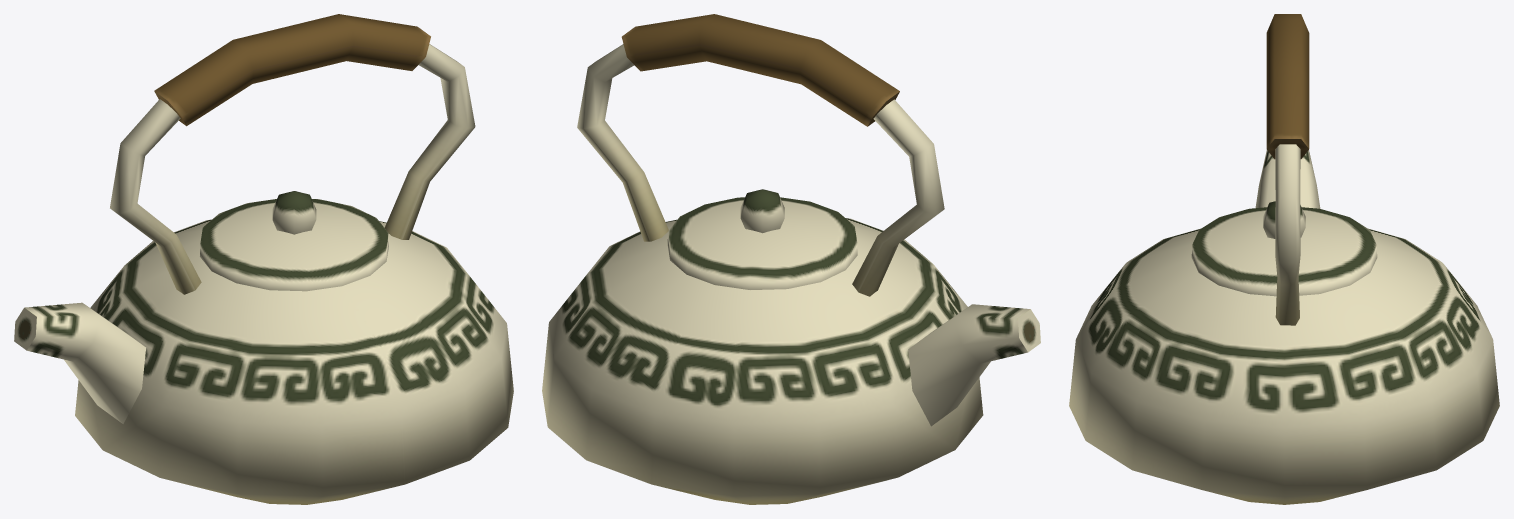
Rendered from obj_teascroll_clubhouse_teapot_p_d33072.glb.
3 views of the same model, side by side, from view 1: azimuth 30°, elevation 25°; view 2: azimuth 150°, elevation 25°; view 3: azimuth 270°, elevation 25° (orthographic). The views are drawn at different scales.
Visible parts, largest first — view 1: obj_teascroll_clubhouse_teapot_p_d33072; view 2: obj_teascroll_clubhouse_teapot_p_d33072; view 3: obj_teascroll_clubhouse_teapot_p_d33072.
Part boxes in pixels (x1,y1,x2,y2): obj_teascroll_clubhouse_teapot_p_d33072: (14, 14, 513, 504); obj_teascroll_clubhouse_teapot_p_d33072: (542, 14, 1040, 504); obj_teascroll_clubhouse_teapot_p_d33072: (1069, 14, 1499, 504).
Size of the model in its own units: 0.2474 by 0.22 by 0.2044.
Materials: 1 (1 with a texture image).
